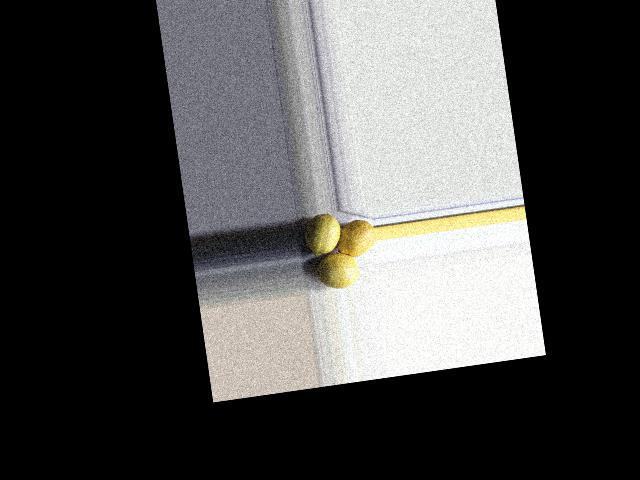lemon: (312, 253, 361, 292)
